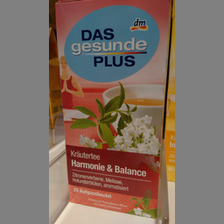tea: (54, 1, 172, 217)
